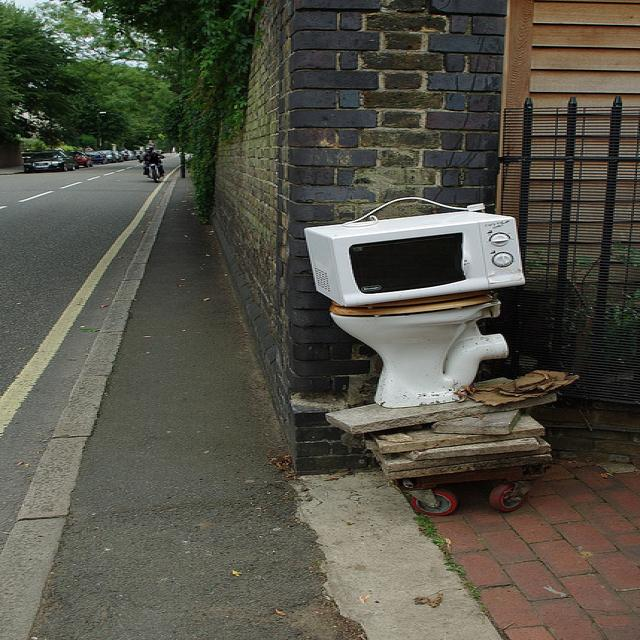motor: (145, 163, 162, 183)
